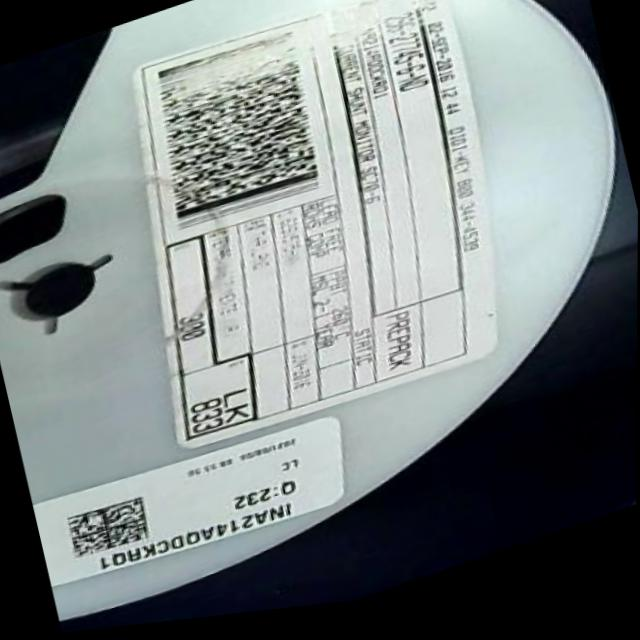datamatrix: (64, 493, 156, 566)
